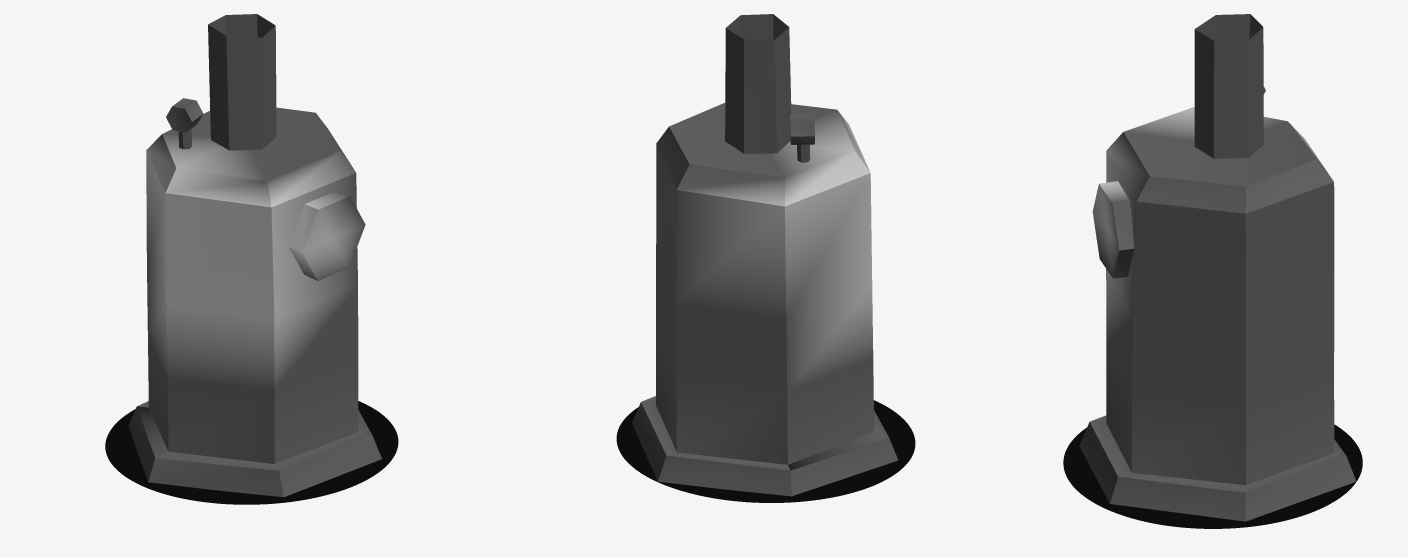
Rendered from boiler_a1.fbx.
3 renders of one model, left to right at view 1: azimuth 30°, elevation 25°; view 2: azimuth 150°, elevation 25°; view 3: azimuth 270°, elevation 25°, orthographic. The views are drawn at different scales.
Visible parts, largest first — view 1: SmallBoiler2, Shadow; view 2: SmallBoiler2, Shadow; view 3: SmallBoiler2, Shadow.
Part boxes in pixels (x1=…): SmallBoiler2: x1=128, y1=14, x2=381, y2=497; Shadow: x1=105, y1=401, x2=398, y2=504; SmallBoiler2: x1=632, y1=14, x2=898, y2=496; Shadow: x1=616, y1=400, x2=915, y2=502; SmallBoiler2: x1=1079, y1=14, x2=1356, y2=521; Shadow: x1=1063, y1=424, x2=1362, y2=528.
Size of the model in its own units: 340 by 437 by 326.
